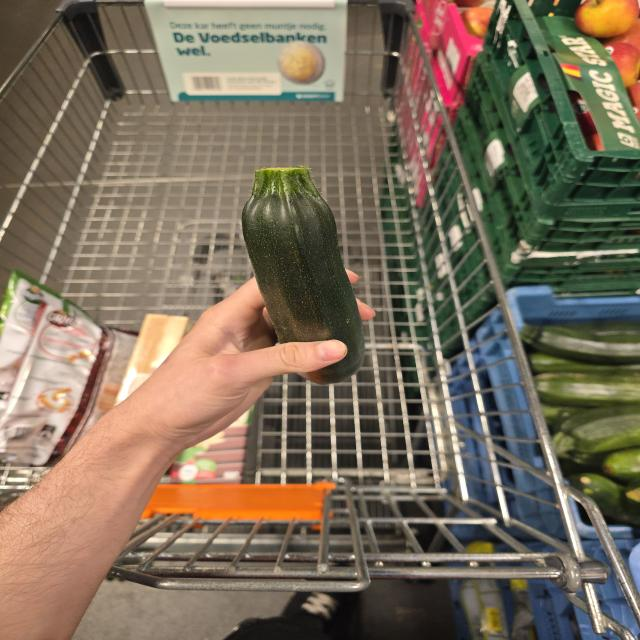Courgette: (242, 167, 365, 384)
